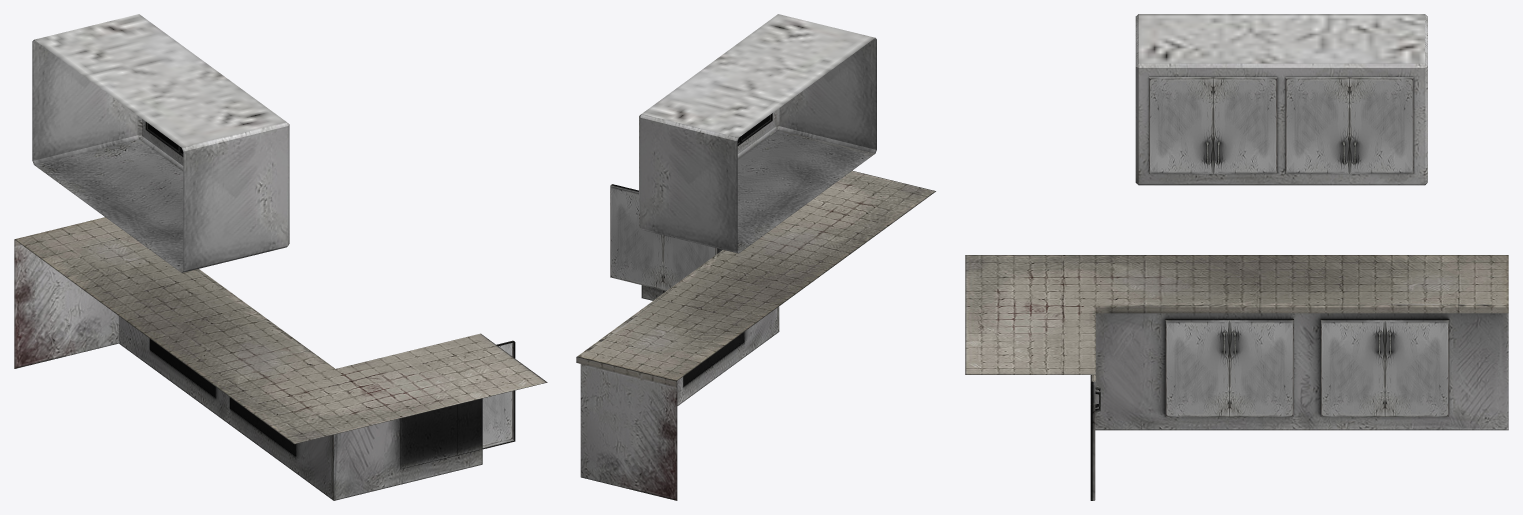
File: workPlane.fbx
3 renders of one model, left to right at view 1: azimuth 30°, elevation 25°; view 2: azimuth 150°, elevation 25°; view 3: azimuth 270°, elevation 25°, orthographic. The views are drawn at different scales.
Parts seen in each view (by area): view 1: polySurface574; view 2: polySurface574; view 3: polySurface574.
Boxes of the visible parts, x1,y1,x2,y2 form: polySurface574: (14, 14, 547, 500); polySurface574: (576, 14, 935, 500); polySurface574: (965, 14, 1508, 500).
Size of the model in its own units: 224 by 254 by 352.
